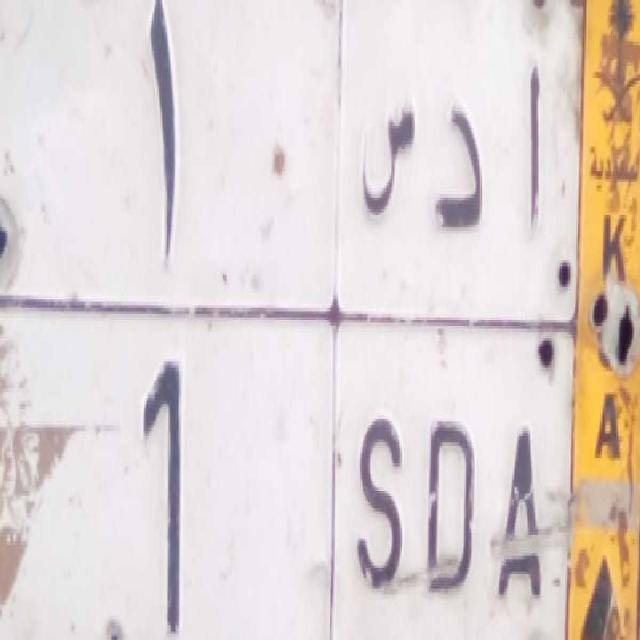license_plate: (0, 289, 570, 640)
